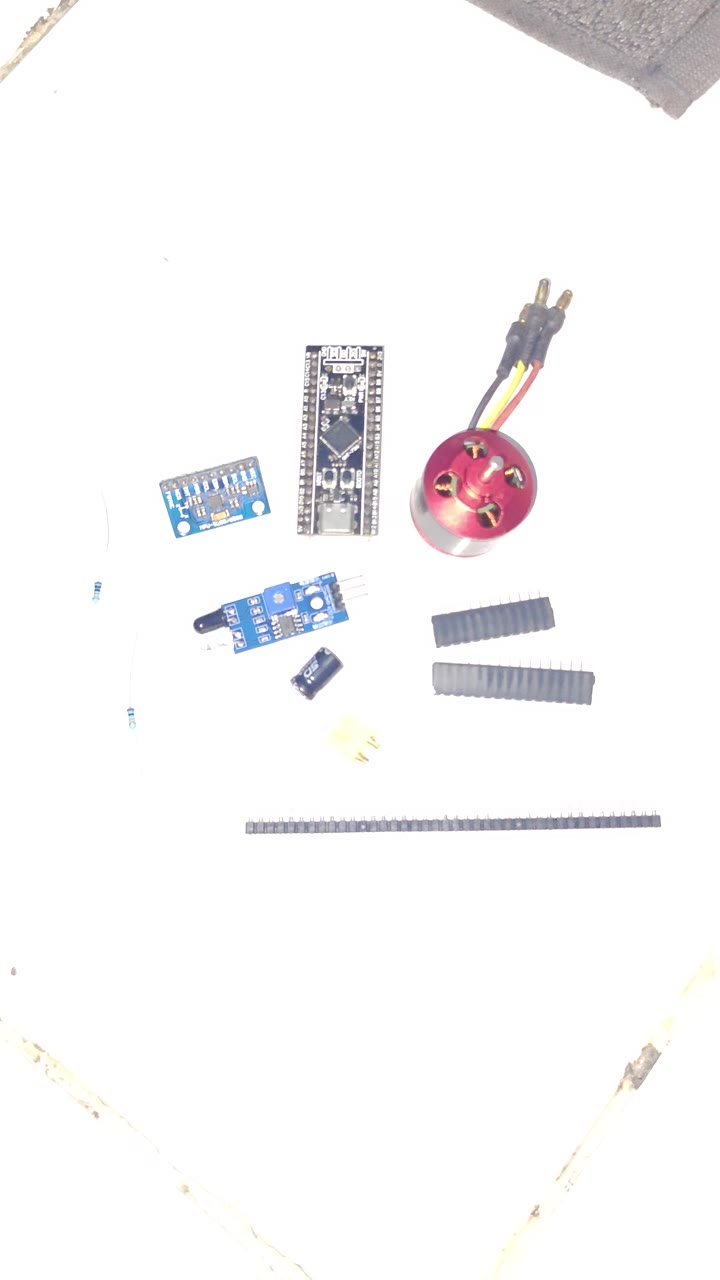bldc_motor: (401, 281, 567, 569)
elco_capacitor: (267, 662, 336, 735)
ir_sensor: (186, 585, 355, 686)
mpu6500: (154, 464, 265, 541)
pin_header: (223, 801, 661, 846), (426, 594, 560, 669), (424, 667, 593, 705)
resistor: (21, 506, 107, 730), (109, 651, 164, 845)
stm32f4: (309, 354, 368, 543)
xt30_female: (305, 722, 382, 798)
